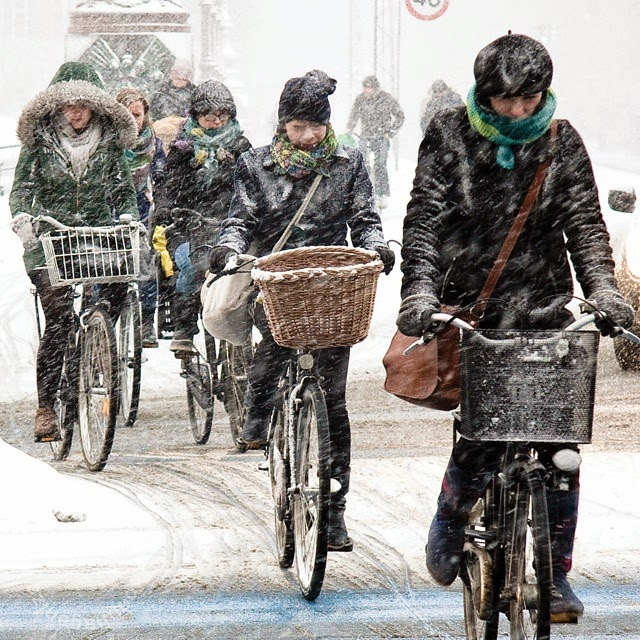commuter: (395, 31, 640, 640), (203, 69, 396, 602), (4, 60, 145, 478), (161, 76, 264, 449)
